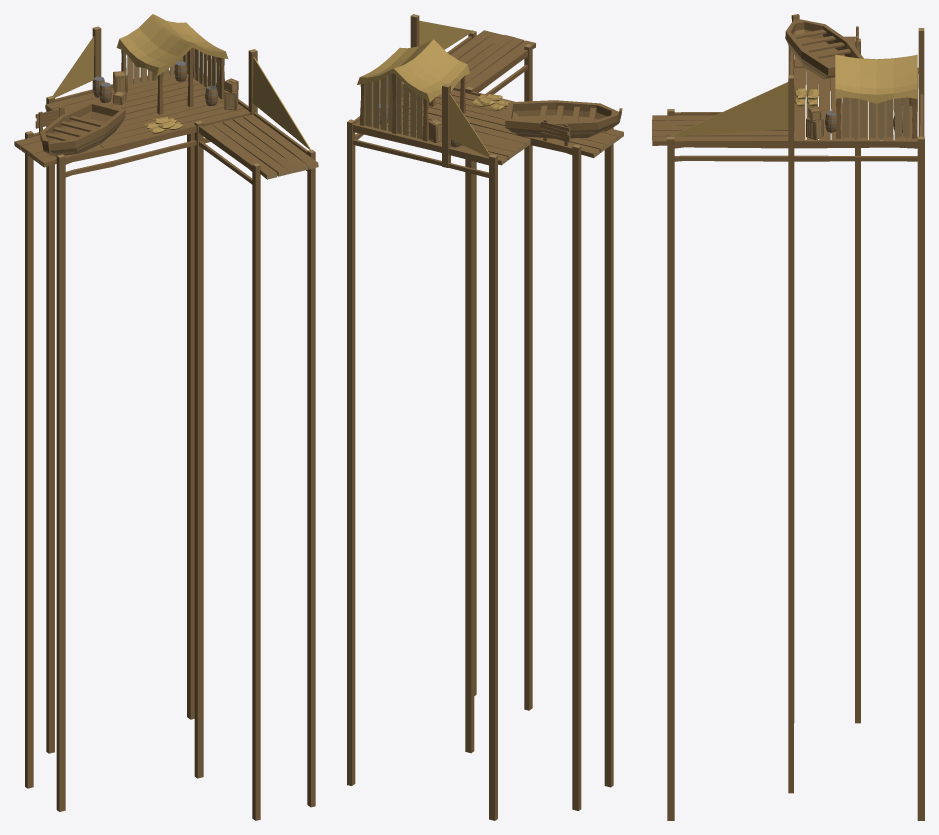
The model's file is Port.fbx.
3 views of the same model, side by side, from view 1: azimuth 30°, elevation 25°; view 2: azimuth 150°, elevation 25°; view 3: azimuth 270°, elevation 25° (orthographic). The views are drawn at different scales.
Parts seen in each view (by area): view 1: Port_FirstAge_Level2; view 2: Port_FirstAge_Level2; view 3: Port_FirstAge_Level2.
Part boxes in pixels (<box>): Port_FirstAge_Level2: <box>14,14,318,820</box>; Port_FirstAge_Level2: <box>347,14,623,820</box>; Port_FirstAge_Level2: <box>652,14,924,820</box>.
Size of the model in its own units: 184 by 198 by 597.
